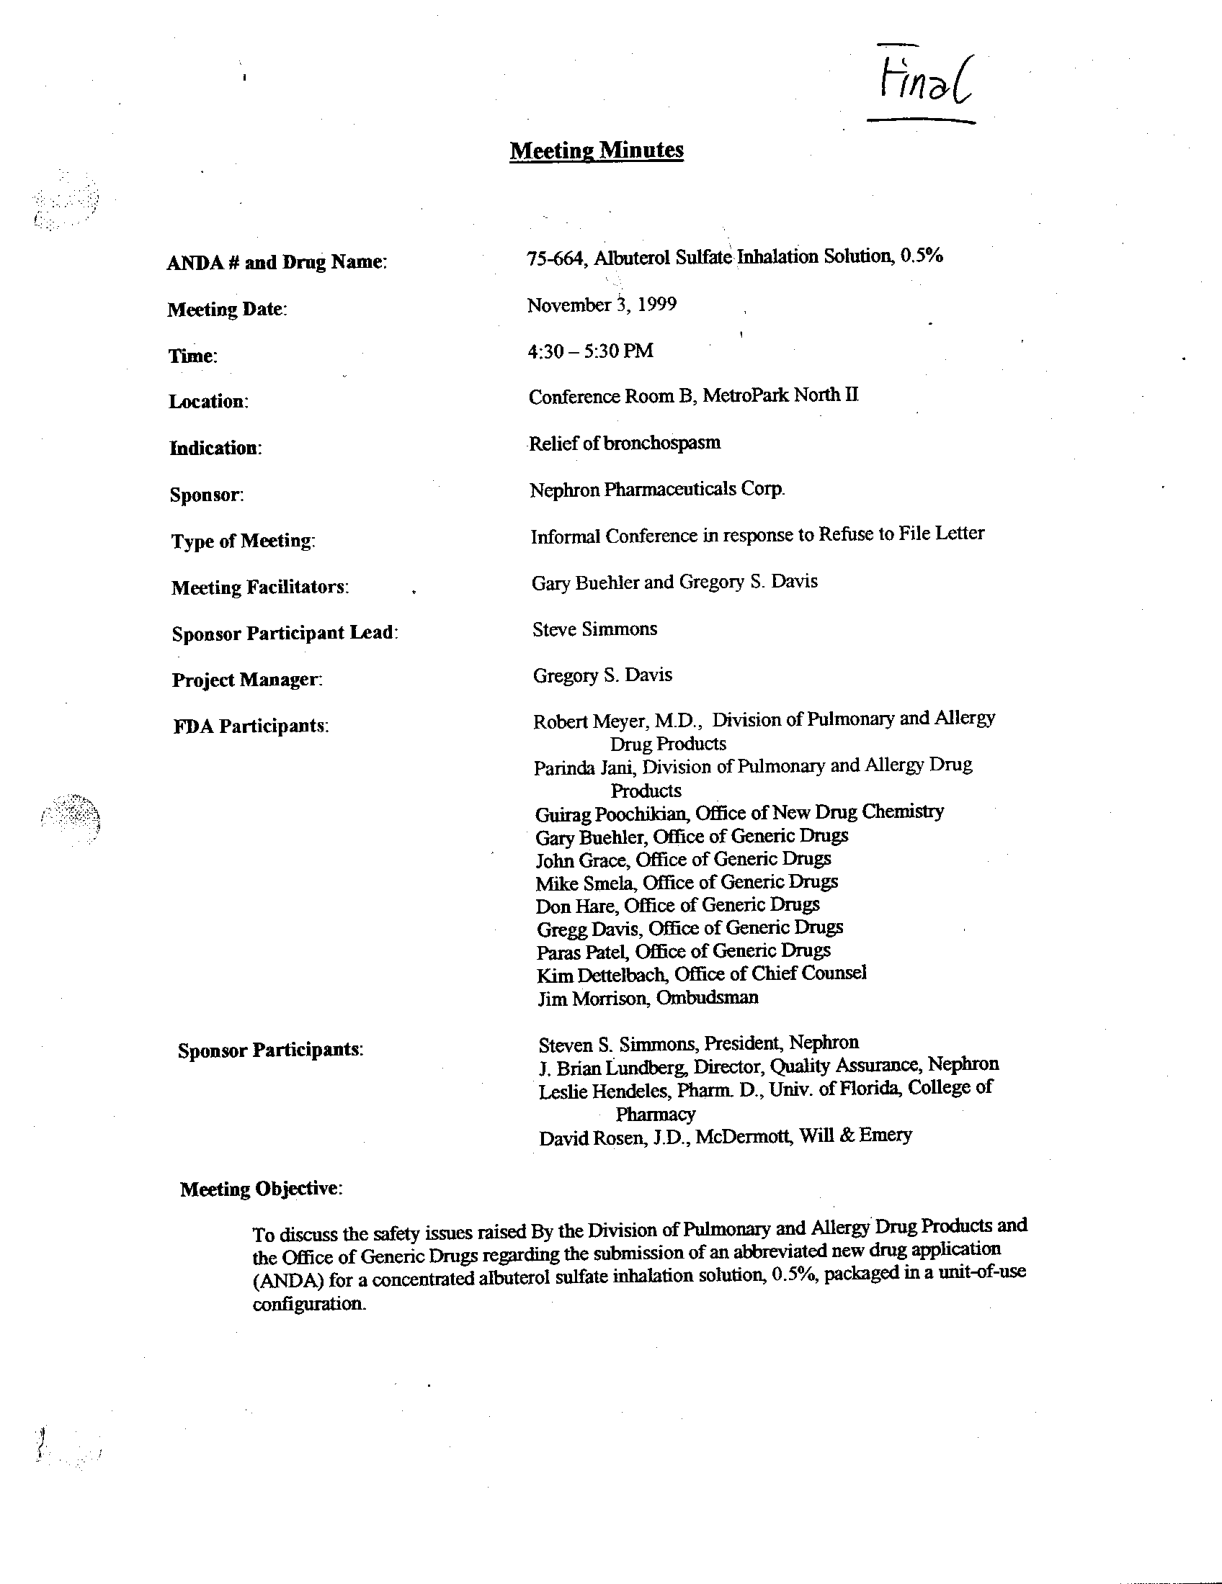nolines: (163, 246, 999, 1204)
